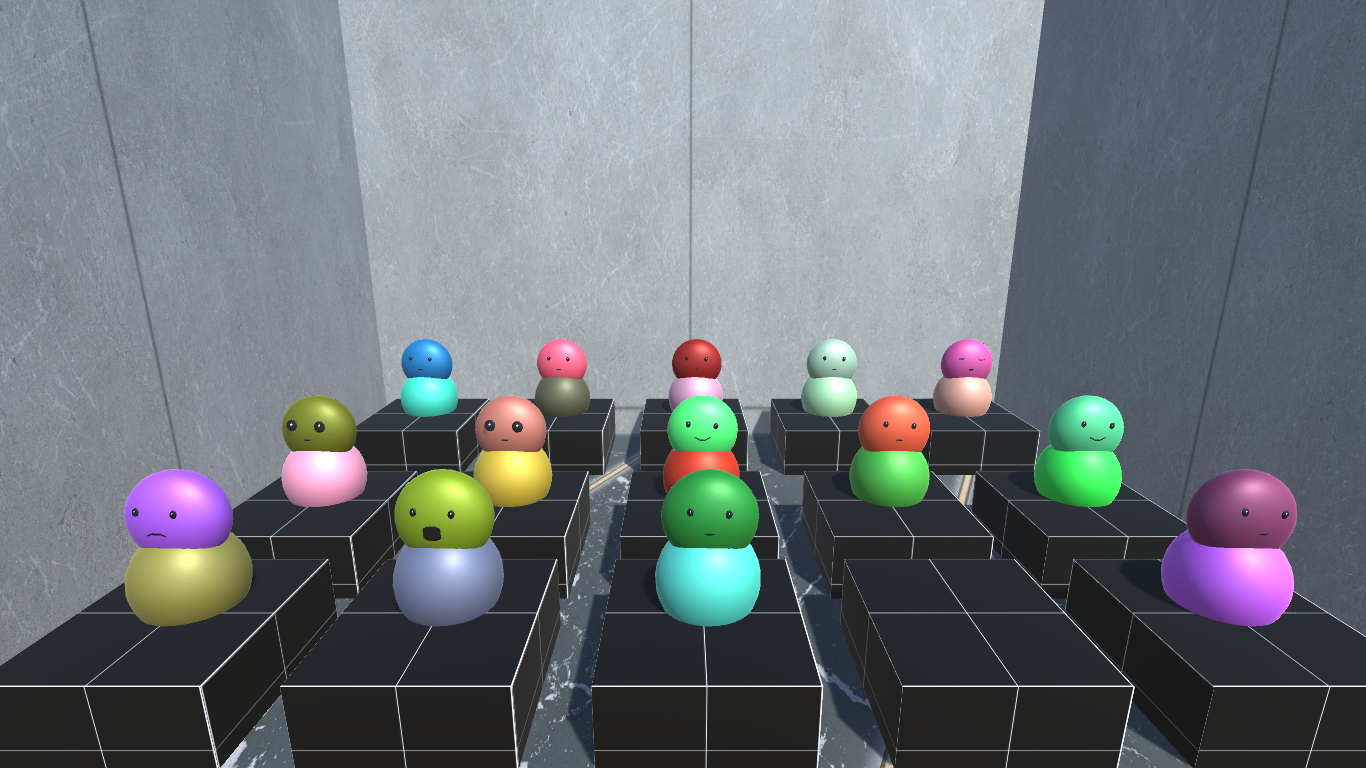blob_atento: (270, 389, 357, 456), (471, 393, 551, 457)
blob_dormindo: (937, 337, 995, 379)
blob_feliz: (1046, 392, 1127, 457), (661, 395, 745, 452)
blob_normal: (1184, 457, 1306, 561), (651, 464, 769, 554), (857, 393, 931, 457), (399, 337, 454, 383), (802, 337, 859, 379), (670, 340, 727, 381), (534, 336, 582, 383)
blob_surpreso: (382, 464, 494, 555)
blob_triste: (119, 467, 229, 559)
